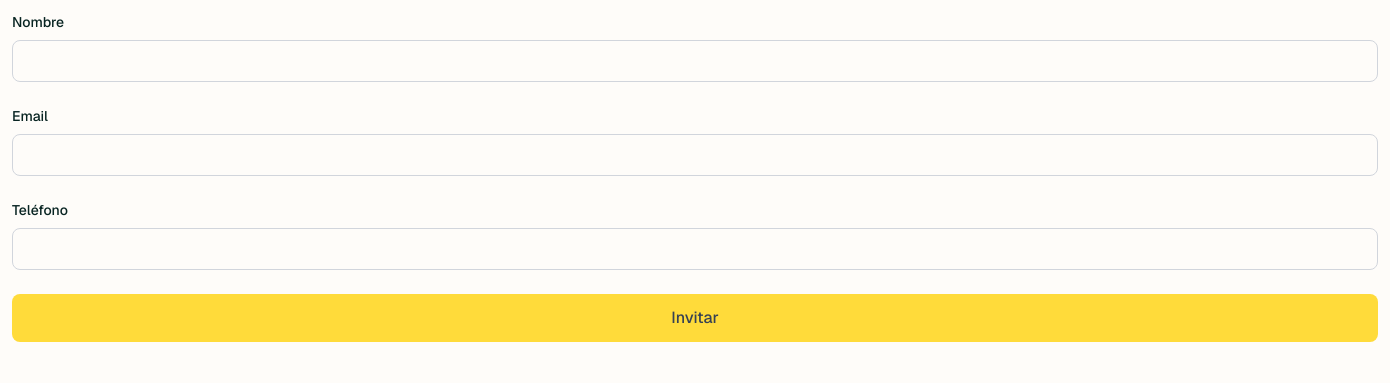
Test: ReferralForm › should show validation error for empty phone
The image size is (1390, 383).
Step 1. Type "John Doe" into the field labelled "Nombre" → (695, 61), box [12,40,1378,82]
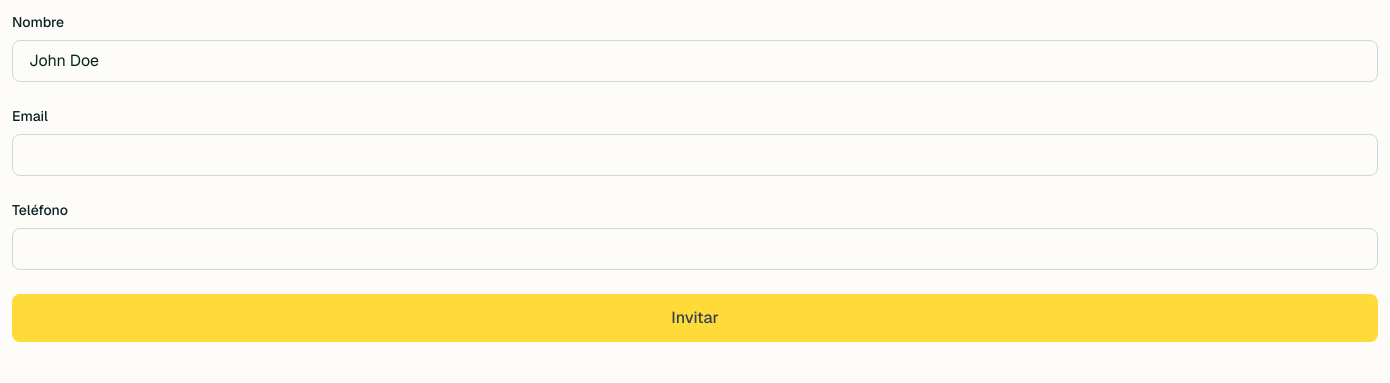
Step 2. Type "john@example.com" into the field labelled "Email" → (695, 155), box [12,134,1378,176]
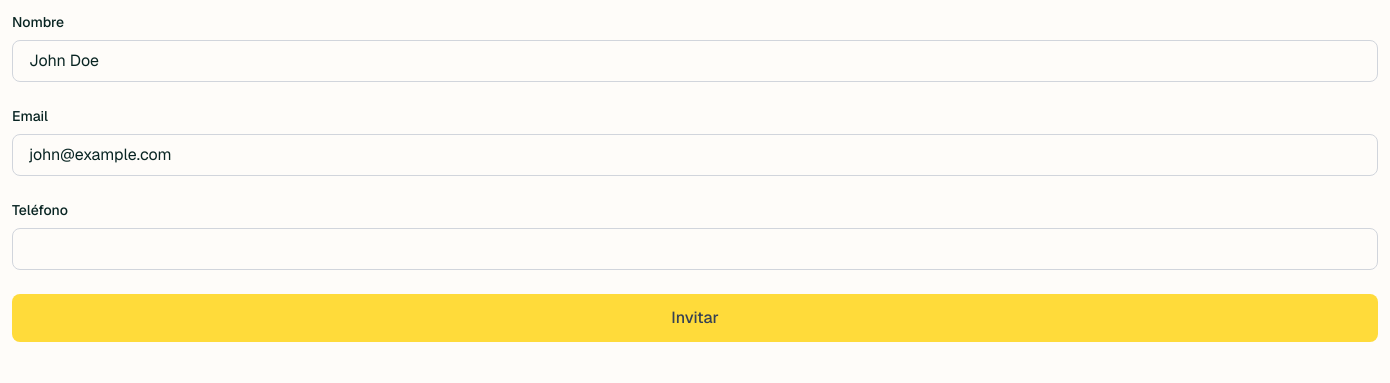
Step 3. Click the button "Invitar" → (695, 318), box [12,294,1378,342]
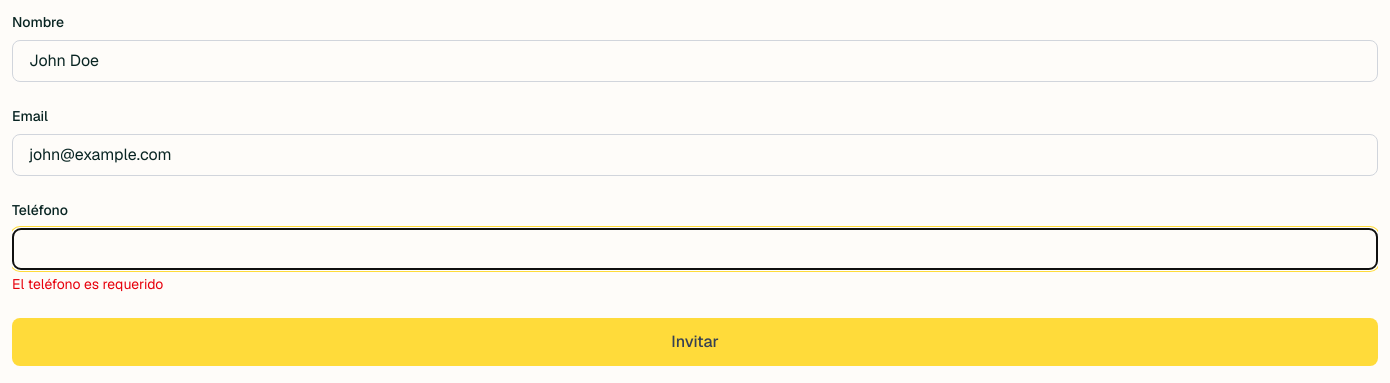
Expected: the text "El teléfono es requerido" is shown, [12,275,163,293]
